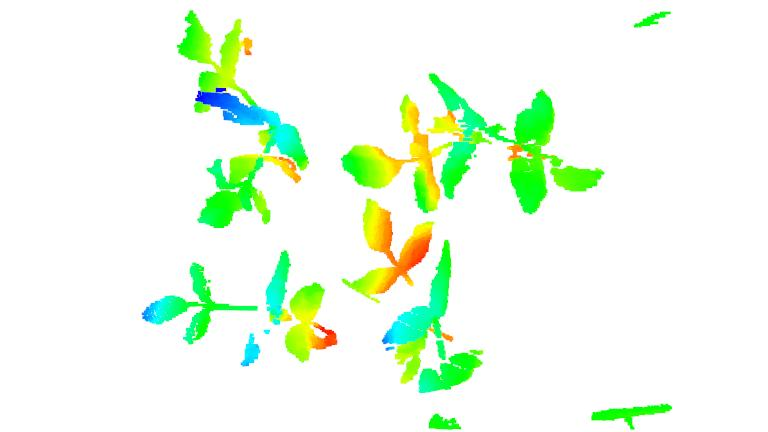mungbean: (339, 60, 629, 213), (166, 5, 315, 229), (345, 198, 485, 394), (137, 246, 347, 372)
